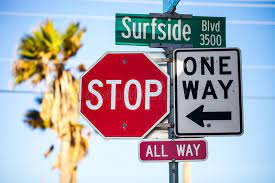Stop: (77, 49, 172, 141)
